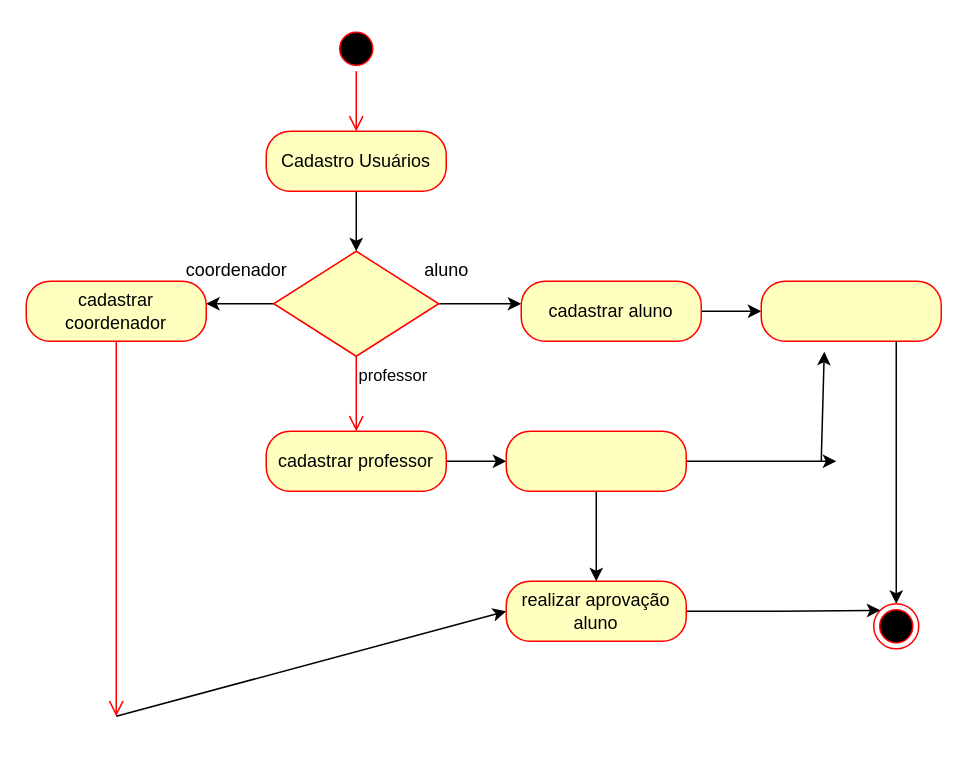
This 968x758 diagram has some shape labels left out. The shapes that lost their labels are listed below. From the top down, each one's centre as x and y in pixels, then its label:
At pixel 355 303: "Coord, Prof ou aluno?".
At pixel 850 310: "consultar notas e frequencia".
At pixel 595 460: "cadastrar notas e frequencia".
